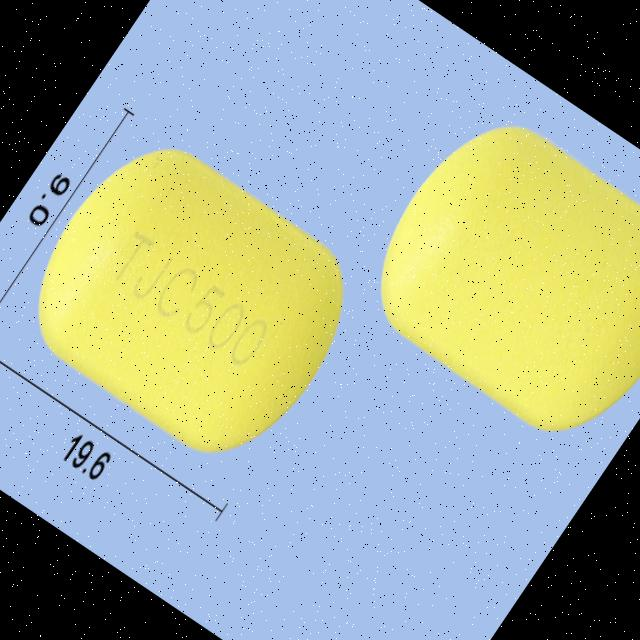Cefaxime Cap: (2, 119, 380, 485), (344, 93, 640, 462)
